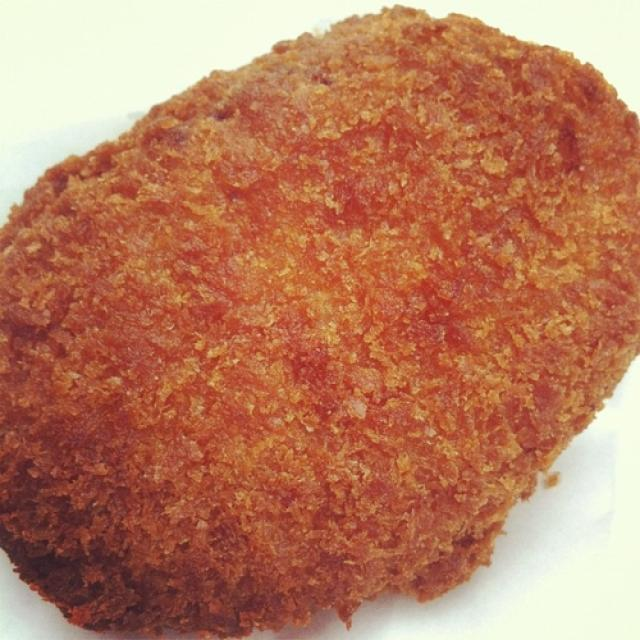炸货点心: (5, 7, 635, 634)
